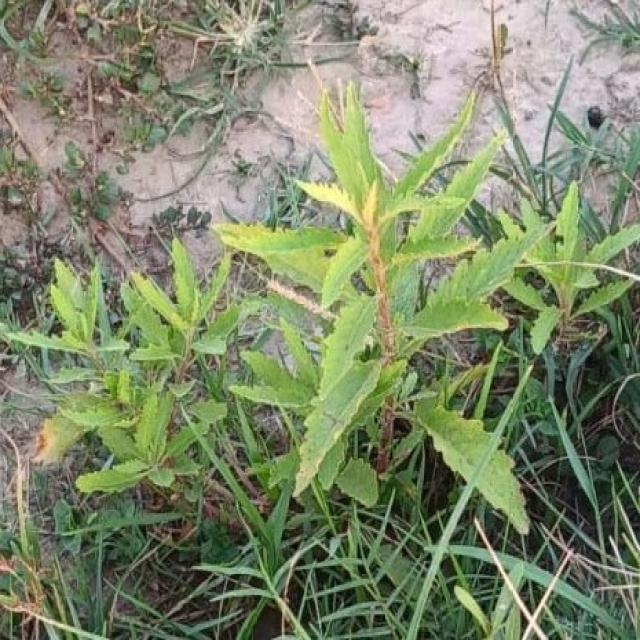weed: (0, 85, 640, 639)
